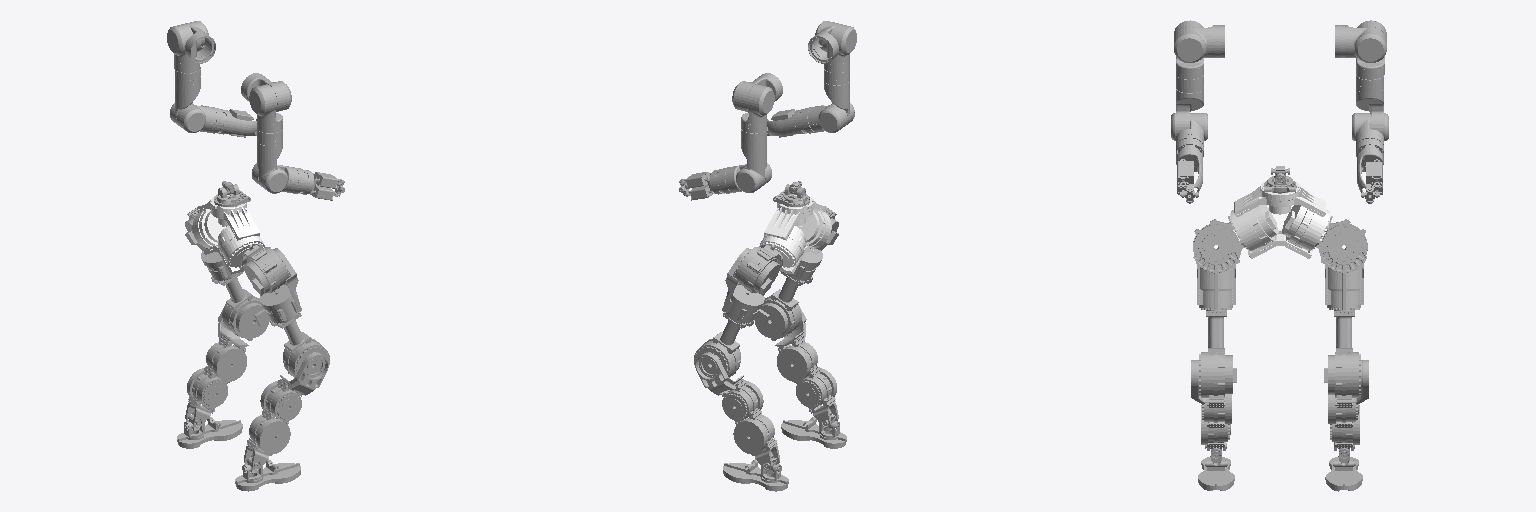
--- What the picture shows (computed from the rendered views, not written in the file) ---
The picture shows the robot from 3 angles, left to right: view 1: azimuth 30°, elevation 25°; view 2: azimuth 150°, elevation 25°; view 3: azimuth 270°, elevation 25°; orthographic projection.
Model dexbot with 30 links and 29 joints (12 revolute, 17 fixed), rooted at base_link, posed every joint at zero.
Links seen in each view (by area): view 1: leg_r4_link, leg_l4_link, base_link, leg_l3_link, leg_r1_link, leg_r3_link, arm_r3_link, leg_r2_link, leg_l6_link, leg_r6_link, arm_r2_link, arm_r5_link (+7 smaller); view 2: leg_l4_link, leg_r4_link, base_link, leg_r3_link, leg_l1_link, leg_l3_link, arm_l3_link, leg_l2_link, leg_r6_link, leg_l6_link, arm_l2_link, arm_l5_link (+7 smaller); view 3: base_link, leg_l2_link, leg_r2_link, leg_r3_link, leg_l3_link, leg_l4_link, leg_r4_link, arm_l1_link, arm_r1_link, arm_l5_link, arm_r5_link, arm_l3_link (+9 smaller).
Link boxes in pixels (box(x1,y1,x2,y2)): leg_r4_link: box(244, 353, 328, 470); leg_l4_link: box(185, 308, 248, 427); base_link: box(192, 195, 264, 274); leg_l3_link: box(211, 272, 270, 340); leg_r1_link: box(241, 243, 289, 295); leg_r3_link: box(269, 312, 329, 377); arm_r3_link: box(257, 129, 287, 193); leg_r2_link: box(259, 248, 301, 323); leg_l6_link: box(177, 417, 242, 448); leg_r6_link: box(235, 459, 300, 491); arm_r2_link: box(249, 84, 282, 132); arm_r5_link: box(292, 167, 344, 200); leg_l4_link: box(695, 353, 779, 470); leg_r4_link: box(775, 308, 838, 427); base_link: box(759, 195, 831, 274); leg_r3_link: box(753, 272, 812, 340); leg_l1_link: box(734, 243, 782, 295); leg_l3_link: box(694, 312, 754, 377); arm_l3_link: box(736, 129, 766, 192); leg_l2_link: box(722, 248, 764, 323); leg_r6_link: box(781, 417, 846, 448); leg_l6_link: box(723, 459, 788, 491); arm_l2_link: box(741, 84, 774, 132); arm_l5_link: box(679, 167, 732, 200); base_link: box(1230, 181, 1330, 258); leg_l2_link: box(1321, 233, 1366, 310); leg_r2_link: box(1193, 233, 1238, 310); leg_r3_link: box(1199, 310, 1236, 399); leg_l3_link: box(1324, 310, 1361, 399); leg_l4_link: box(1328, 360, 1368, 450); leg_r4_link: box(1191, 360, 1231, 450); arm_l1_link: box(1335, 25, 1386, 62); arm_r1_link: box(1174, 25, 1224, 62); arm_l5_link: box(1356, 138, 1383, 203); arm_r5_link: box(1176, 138, 1203, 203); arm_l3_link: box(1356, 74, 1388, 140).
Bounding box of the posed robot: 0.3222 × 0.5764 × 1.31 m (x, y, z).
Meshes: 30 distinct files referenced, 27 mesh visuals loaded (27 binary STL); not drawn: 3 (reference not matched to a file when rendering).

URDF robot description (dexbot):
<?xml version="1.0" encoding="utf-8"?>
<!-- This URDF was automatically created by SolidWorks to URDF Exporter! Originally created by Stephen Brawner ([email redacted]) 
     Commit Version: 1.6.0-4-g7f85cfe  Build Version: 1.6.7995.38578
     For more information, please see http://wiki.ros.org/sw_urdf_exporter -->
<robot
  name="dexbot">
  <mujoco>
    <compiler meshdir="../meshes/" balanceinertia="true" discardvisual="false"/>
  </mujoco>
  <link
    name="base_link">
    <inertial>
      <origin
        xyz="0.00026092 -2.8127E-06 -0.032217"
        rpy="0 0 0" />
      <mass
        value="6.36148470" />
      <inertia
        ixx="0.04306588"
        ixy="-0.00000008"
        ixz="-0.00001174"
        iyy="0.01886801"
        iyz="0.00000066"
        izz="0.03427573" />
    </inertial>
    <visual>
      <origin
        xyz="0 0 0"
        rpy="0 0 0" />
      <geometry>
        <mesh
          filename="../meshes/base_link.STL" />
      </geometry>
      <material
        name="">
        <color
          rgba="1 1 1 1" />
      </material>
    </visual>
    <collision>
      <origin
        xyz="0 0 0"
        rpy="0 0 0" />
      <geometry>
	    <box size="0.05 0.05 0.05"/>
      </geometry>
    </collision>
  </link>
 
  <link
    name="leg_l1_link">
    <inertial>
      <origin
        xyz="0.0017864690688535 0.116806232663126 -0.06730045557826"
        rpy="0 0 0" />
      <mass
        value="2.52127296" />
      <inertia
        ixx="0.00489363"
        ixy="0.00004173"
        ixz="-0.00002377"
        iyy="0.00398523"
        iyz="0.00008835"
        izz="0.00406691" />
    </inertial>
    <visual>
      <origin
        xyz="0 0 0"
        rpy="0 0 0" />
      <geometry>
        <mesh
          filename="../meshes/leg_l1_link.STL" />
      </geometry>
      <material
        name="">
        <color
          rgba="0.752941176470588 0.752941176470588 0.752941176470588 1" />
      </material>
    </visual>
    <collision>
      <origin
        xyz="0 0 0"
        rpy="0 0 0" />
      <geometry>
        <mesh
          filename="../meshes/leg_l1_link.STL" />
      </geometry>
    </collision>
  </link>
  <joint
    name="leg_l1_joint"
    type="revolute">
    <origin
      xyz="0 0.046765 -0.047489"
      rpy="0 -0.4 0" />
    <parent
      link="base_link" />
    <child
      link="leg_l1_link" />
    <axis
      xyz="0 0.86603 -0.5" />
    <limit
      lower="-2.878"
      upper="2.878"
      effort="360"
      velocity="10" />
  </joint>
  <link
    name="leg_l2_link">
    <inertial>
      <origin
        xyz="0.0181611526889743 7.56912721500136E-07 -0.100016047593423"
        rpy="0 0 0" />
      <mass
        value="1.73504778" />
      <inertia
        ixx="0.00395397"
        ixy="-0.00000001"
        ixz="-0.00093866"
        iyy="0.00413227"
        iyz="-0.00000002"
        izz="0.00269158" />
    </inertial>
    <visual>
      <origin
        xyz="0 0 0"
        rpy="0 0 0" />
      <geometry>
        <mesh
          filename="../meshes/leg_l2_link.STL" />
      </geometry>
      <material
        name="">
        <color
          rgba="0.752941176470588 0.752941176470588 0.752941176470588 1" />
      </material>
    </visual>
    <collision>
      <origin
        xyz="0 0 0"
        rpy="0 0 0" />
      <geometry>
        <mesh
          filename="../meshes/leg_l2_link.STL" />
      </geometry>
    </collision>
  </link>
  <joint
    name="leg_l2_joint"
    type="revolute">
    <origin
      xyz="0 0.12298 -0.071"
      rpy="0 0 0" />
    <parent
      link="leg_l1_link" />
    <child
      link="leg_l2_link" />
    <axis
      xyz="1 0 0" />
    <limit
      lower="-0.523"
      upper="3.663"
      effort="360"
      velocity="10" />
  </joint>
  <link
    name="leg_l3_link">
    <inertial>
      <origin
        xyz="0.000114524600190401 0.00164777125622231 -0.147066721883769"
        rpy="0 0 0" />
      <mass
        value="2.61656788" />
      <inertia
        ixx="0.00782239"
        ixy="0.00006403"
        ixz="0.00007604"
        iyy="0.00840438"
        iyz="0.00005952"
        izz="0.00374500" />
    </inertial>
    <visual>
      <origin
        xyz="0 0 0"
        rpy="0 0 0" />
      <geometry>
        <mesh
          filename="../meshes/leg_l3_link.STL" />
      </geometry>
      <material
        name="">
        <color
          rgba="0.752941176470588 0.752941176470588 0.752941176470588 1" />
      </material>
    </visual>
    <collision>
      <origin
        xyz="0 0 0"
        rpy="0 0 0" />
      <geometry>
        <mesh
          filename="../meshes/leg_l3_link.STL" />
      </geometry>
    </collision>
  </link>
  <joint
    name="leg_l3_joint"
    type="revolute">
    <origin
      xyz="0 0 -0.167"
      rpy="0 0 0" />
    <parent
      link="leg_l2_link" />
    <child
      link="leg_l3_link" />
    <axis
      xyz="0 0 1" />
    <limit
      lower="-2.791"
      upper="2.791"
      effort="120"
      velocity="10" />
  </joint>
  <link
    name="leg_l4_link">
    <inertial>
      <origin
        xyz="-2.42788361047336E-08 0.00822937854237335 -0.173854656992678"
        rpy="0 0 0" />
      <mass
        value="3.31554813 " />
      <inertia
        ixx="0.01958814"
        ixy="1.45675411582526E-10"
        ixz="3.648473073682E-10"
        iyy="0.01919917"
        iyz="-0.00126641"
        izz="0.00408025" />
    </inertial>
    <visual>
      <origin
        xyz="0 0 0"
        rpy="0 0 0" />
      <geometry>
        <mesh
          filename="../meshes/leg_l4_link.STL" />
      </geometry>
      <material
        name="">
        <color
          rgba="0.752941176470588 0.752941176470588 0.752941176470588 1" />
      </material>
    </visual>
    <collision>
      <origin
        xyz="0 0 0"
        rpy="0 0 0" />
      <geometry>
	    <box size="0.1 0.1 0.2"/>
      </geometry>
    </collision>
  </link>
  <joint
    name="leg_l4_joint"
    type="revolute">
    <origin
      xyz="0 0 -0.173"
      rpy="0 0.95 0" />
    <parent
      link="leg_l3_link" />
    <child
      link="leg_l4_link" />
    <axis
      xyz="0 1 0" />
    <limit
      lower="-2.355"
      upper="2.355"
      effort="360"
      velocity="10" />
  </joint>
  <link
    name="leg_l5_link">
    <inertial>
      <origin
        xyz="4.00159781425996E-05 -1.65302931448563E-05 -0.00782114986776949"
        rpy="0 0 0" />
      <mass
        value="0.07526525" />
      <inertia
        ixx="0.00001536"
        ixy="2.28805291083391E-22"
        ixz="0.00000014"
        iyy="0.00001554"
        iyz="-2.04482003272117E-20"
        izz="0.00001540" />
    </inertial>
    <visual>
      <origin
        xyz="0 0 0"
        rpy="0 0 0" />
      <geometry>
        <mesh
          filename="../meshes/leg_l5_link.STL" />
      </geometry>
      <material
        name="">
        <color
          rgba="0.752941176470588 0.752941176470588 0.752941176470588 1" />
      </material>
    </visual>
    <collision>
      <origin
        xyz="0 0 0"
        rpy="0 0 0" />
      <geometry>
        <mesh
          filename="../meshes/leg_l5_link.STL" />
      </geometry>
    </collision>
  </link>
  <joint
    name="leg_l5_joint"
    type="revolute">
    <origin
      xyz="0 0 -0.34"
      rpy="0 -0.6 0" />
    <parent
      link="leg_l4_link" />
    <child
      link="leg_l5_link" />
    <axis
      xyz="0 1 0" />
    <limit
      lower="-1.046"
      upper="0.436"
      effort="120"
      velocity="10" />
    <dynamics
      damping="0."
      friction="0.1" />
  </joint>
  <link
    name="leg_l6_link">
    <inertial>
      <origin
        xyz="0.0457872515086006 -6.33583149833861E-09 -0.0382686559903004"
        rpy="0 0 0" />
      <mass
        value="0.53640572" />
      <inertia
        ixx="0.00030450"
        ixy="-6.41793064473971E-11"
        ixz="0.00006785"
        iyy="0.00162803"
        iyz="-5.36686897038477E-11"
        izz="0.00177516" />
    </inertial>
    <visual>
      <origin
        xyz="0 0 0"
        rpy="0 0 0" />
      <geometry>
        <mesh
          filename="../meshes/leg_l6_link.STL" />
      </geometry>
      <material
        name="">
        <color
          rgba="0.752941176470588 0.752941176470588 0.752941176470588 1" />
      </material>
    </visual>
    <collision>
      <origin
        xyz="0 0 0"
        rpy="0 0 0" />
      <geometry>
        <mesh
          filename="../meshes/leg_l6_link.STL" />
      </geometry>
    </collision>
  </link>
  <joint
    name="leg_l6_joint"
    type="revolute">
    <origin
      xyz="0 0 -0.015"
      rpy="0 0 0" />
    <parent
      link="leg_l5_link" />
    <child
      link="leg_l6_link" />
    <axis
      xyz="1 0 0" />
    <limit
      lower="-0.261"
      upper="0.261"
      effort="120"
      velocity="10" />
    <dynamics
      damping="0."
      friction="0.1" />
  </joint>
  <link
    name="leg_r1_link">
    <inertial>
      <origin
        xyz="0.00178614318038721 -0.11680589348535 -0.0673010430487607"
        rpy="0 0 0" />
      <mass
        value="2.52127296" />
      <inertia
        ixx="0.00489363"
        ixy="-0.00004169"
        ixz="-0.00002379"
        iyy="0.00398515"
        iyz="-0.00008830"
        izz="0.00406699" />
    </inertial>
    <visual>
      <origin
        xyz="0 0 0"
        rpy="0 0 0" />
      <geometry>
        <mesh
          filename="../meshes/leg_r1_link.STL" />
      </geometry>
      <material
        name="">
        <color
          rgba="0.752941176470588 0.752941176470588 0.752941176470588 1" />
      </material>
    </visual>
    <collision>
      <origin
        xyz="0 0 0"
        rpy="0 0 0" />
      <geometry>
        <mesh
          filename="../meshes/leg_r1_link.STL" />
      </geometry>
    </collision>
  </link>
  <joint
    name="leg_r1_joint"
    type="revolute">
    <origin
      xyz="0 -0.046765 -0.047489"
      rpy="0 -0.4 0" />
    <parent
      link="base_link" />
    <child
      link="leg_r1_link" />
    <axis
      xyz="0 0.86603 0.5" />
    <limit
      lower="-2.878"
      upper="2.878"
      effort="360"
      velocity="10" />
  </joint>
  <link
    name="leg_r2_link">
    <inertial>
      <origin
        xyz="0.0181611526889737 7.56912739346971E-07 -0.100016047593425"
        rpy="0 0 0" />
      <mass
        value="1.73504778 " />
      <inertia
        ixx="0.00395397"
        ixy="-0.00000001"
        ixz="-0.00093866"
        iyy="0.00413227"
        iyz="-0.00000002"
        izz="0.00269158" />
    </inertial>
    <visual>
      <origin
        xyz="0 0 0"
        rpy="0 0 0" />
      <geometry>
        <mesh
          filename="../meshes/leg_r2_link.STL" />
      </geometry>
      <material
        name="">
        <color
          rgba="0.752941176470588 0.752941176470588 0.752941176470588 1" />
      </material>
    </visual>
    <collision>
      <origin
        xyz="0 0 0"
        rpy="0 0 0" />
      <geometry>
        <mesh
          filename="../meshes/leg_r2_link.STL" />
      </geometry>
    </collision>
  </link>
  <joint
    name="leg_r2_joint"
    type="revolute">
    <origin
      xyz="0 -0.12298 -0.071"
      rpy="0 0 0" />
    <parent
      link="leg_r1_link" />
    <child
      link="leg_r2_link" />
    <axis
      xyz="1 0 0" />
    <limit
      lower="-3.663"
      upper="0.523"
      effort="360"
      velocity="10" />
  </joint>
  <link
    name="leg_r3_link">
    <inertial>
      <origin
        xyz="0.000114524600189936 -0.00164777130191504 -0.152066096139861"
        rpy="0 0 0" />
      <mass
        value="2.61656788" />
      <inertia
        ixx="0.00782235"
        ixy="-0.00006403"
        ixz="0.00007614"
        iyy="0.00840433"
        iyz="-0.00005955"
        izz="0.00374500" />
    </inertial>
    <visual>
      <origin
        xyz="0 0 0"
        rpy="0 0 0" />
      <geometry>
        <mesh
          filename="../meshes/leg_r3_link.STL" />
      </geometry>
      <material
        name="">
        <color
          rgba="0.752941176470588 0.752941176470588 0.752941176470588 1" />
      </material>
    </visual>
    <collision>
      <origin
        xyz="0 0 0"
        rpy="0 0 0" />
      <geometry>
        <mesh
          filename="../meshes/leg_r3_link.STL" />
      </geometry>
    </collision>
  </link>
  <joint
    name="leg_r3_joint"
    type="revolute">
    <origin
      xyz="0 0 -0.162"
      rpy="0 0 0" />
    <parent
      link="leg_r2_link" />
    <child
      link="leg_r3_link" />
    <axis
      xyz="0 0 1" />
    <limit
      lower="-2.791"
      upper="2.791"
      effort="120"
      velocity="10" />
  </joint>
  <link
    name="leg_r4_link">
    <inertial>
      <origin
        xyz="2.42790771935745E-08 -0.00822937854297046 -0.173854656994349"
        rpy="0 0 0" />
      <mass
        value="3.31554813" />
      <inertia
        ixx="0.01958814"
        ixy="1.4568009343734E-10"
        ixz="-3.64833965217596E-10"
        iyy="0.01919917"
        iyz="0.00126641"
        izz="0.00408025" />
    </inertial>
    <visual>
      <origin
        xyz="0 0 0"
        rpy="0 0 0" />
      <geometry>
        <mesh
          filename="../meshes/leg_r4_link.STL" />
      </geometry>
      <material
        name="">
        <color
          rgba="0.752941176470588 0.752941176470588 0.752941176470588 1" />
      </material>
    </visual>
    <collision>
      <origin
        xyz="0 0 0"
        rpy="0 0 0" />
      <geometry>
	    <box size="0.1 0.1 0.2"/>
      </geometry>
    </collision>
  </link>
  <joint
    name="leg_r4_joint"
    type="revolute">
    <origin
      xyz="0 0 -0.178"
      rpy="0 0.95 0" />
    <parent
      link="leg_r3_link" />
    <child
      link="leg_r4_link" />
    <axis
      xyz="0 1 0" />
    <limit
      lower="-2.355"
      upper="2.355"
      effort="360"
      velocity="10" />
  </joint>
  <link
    name="leg_r5_link">
    <inertial>
      <origin
        xyz="4.00159781427515E-05 1.65302931921796E-05 -0.00782114986777116"
        rpy="0 0 0" />
      <mass
        value="0.07526525 " />
      <inertia
        ixx="0.00001536"
        ixy="-6.76802670148237E-22"
        ixz="0.00000014"
        iyy="0.00001554"
        iyz="-6.28566146662745E-21"
        izz="0.00001540" />
    </inertial>
    <visual>
      <origin
        xyz="0 0 0"
        rpy="0 0 0" />
      <geometry>
        <mesh
          filename="../meshes/leg_r5_link.STL" />
      </geometry>
      <material
        name="">
        <color
          rgba="0.752941176470588 0.752941176470588 0.752941176470588 1" />
      </material>
    </visual>
    <collision>
      <origin
        xyz="0 0 0"
        rpy="0 0 0" />
      <geometry>
        <mesh
          filename="../meshes/leg_r5_link.STL" />
      </geometry>
    </collision>
  </link>
  <joint
    name="leg_r5_joint"
    type="revolute">
    <origin
      xyz="0 0 -0.34"
      rpy="0 -0.6 0" />
    <parent
      link="leg_r4_link" />
    <child
      link="leg_r5_link" />
    <axis
      xyz="0 1 0" />
    <limit
      lower="-1.046"
      upper="0.436"
      effort="120"
      velocity="10" />
    <dynamics
      damping="0."
      friction="0.1" />
  </joint>
  <link
    name="leg_r6_link">
    <inertial>
      <origin
        xyz="0.0457872515086024 -6.33582283859901E-09 -0.0382686559903024"
        rpy="0 0 0" />
      <mass
        value="0.53640572" />
      <inertia
        ixx="0.00030450"
        ixy="-6.41793116816966E-11"
        ixz="0.00006785"
        iyy="0.00162803"
        iyz="-5.36686913549503E-11"
        izz="0.00177516" />
    </inertial>
    <visual>
      <origin
        xyz="0 0 0"
        rpy="0 0 0" />
      <geometry>
        <mesh
          filename="../meshes/leg_r6_link.STL" />
      </geometry>
      <material
        name="">
        <color
          rgba="0.752941176470588 0.752941176470588 0.752941176470588 1" />
      </material>
    </visual>
    <collision>
      <origin
        xyz="0 0 0"
        rpy="0 0 0" />
      <geometry>
        <mesh
          filename="../meshes/leg_r6_link.STL" />
      </geometry>
    </collision>
  </link>
  <joint
    name="leg_r6_joint"
    type="revolute">
    <origin
      xyz="0 0 -0.015"
      rpy="0 0 0" />
    <parent
      link="leg_r5_link" />
    <child
      link="leg_r6_link" />
    <axis
      xyz="1 0 0" />
    <limit
      lower="-0.261"
      upper="0.261"
      effort="120"
      velocity="10" />
    <dynamics
      damping="0."
      friction="0.1" />
  </joint>
  <link
    name="waist_yaw_link">
    <inertial>
      <origin
        xyz="0.00787627921192027 -2.35767009722762E-05 -0.0105472849579242"
        rpy="0 0 0" />
      <mass
        value="0.24957042" />
      <inertia
        ixx="0.00019007"
        ixy="0.00000020"
        ixz="-0.00000368"
        iyy="0.00021255"
        iyz="0.00000002"
        izz="0.00030541" />
    </inertial>
    <visual>
      <origin
        xyz="0 0 0"
        rpy="0 0 0" />
      <geometry>
        <mesh
          filename="../meshes/waist_yaw_link.STL" />
      </geometry>
      <material
        name="">
        <color
          rgba="0.752941176470588 0.752941176470588 0.752941176470588 1" />
      </material>
    </visual>
    <collision>
      <origin
        xyz="0 0 0"
        rpy="0 0 0" />
      <geometry>
        <mesh
          filename="../meshes/waist_yaw_link.STL" />
      </geometry>
    </collision>
  </link>
  <joint
    name="waist_yaw_joint"
    type="fixed">
    <origin
      xyz="0 0 0.068702"
      rpy="0 0 0" />
    <parent
      link="base_link" />
    <child
      link="waist_yaw_link" />
    <axis
      xyz="0 0 1" />
    <limit
      lower="-1"
      upper="1"
      effort="120"
      velocity="10" />
  </joint>
  <link
    name="waist_roll_link">
    <inertial>
      <origin
        xyz="-0.000388928550485794 0.000350132910345151 0.00738202287463685"
        rpy="0 0 0" />
      <mass
        value="0.16196054" />
      <inertia
        ixx="0.00002646"
        ixy="-0.00000002"
        ixz="-0.00000046"
        iyy="0.00003035"
        iyz="-0.00000038"
        izz="0.00003003" />
    </inertial>
    <visual>
      <origin
        xyz="0 0 0"
        rpy="0 0 0" />
      <geometry>
        <mesh
          filename="../meshes/waist_roll_link.STL" />
      </geometry>
      <material
        name="">
        <color
          rgba="0.752941176470588 0.752941176470588 0.752941176470588 1" />
      </material>
    </visual>
    <collision>
      <origin
        xyz="0 0 0"
        rpy="0 0 0" />
      <geometry>
        <mesh
          filename="../meshes/waist_roll_link.STL" />
      </geometry>
    </collision>
  </link>
  <joint
    name="waist_roll_joint"
    type="fixed">
    <origin
      xyz="0 0 0.013"
      rpy="0 0 0" />
    <parent
      link="waist_yaw_link" />
    <child
      link="waist_roll_link" />
    <axis
      xyz="1 0 0" />
    <limit
      lower="-1"
      upper="1"
      effort="120"
      velocity="10" />
  </joint>
  <link
    name="waist_pitch_link">
    <inertial>
      <origin
        xyz="-0.00970826894856499 -0.000666017269940171 0.246498190853554"
        rpy="0 0 0" />
      <mass
        value="16.58516457 " />
      <inertia
        ixx="0.39246282"
        ixy="-0.00207990"
        ixz="-0.00581603"
        iyy="0.34173665"
        iyz="-0.00122791"
        izz="0.12457224" />
    </inertial>
    <visual>
      <origin
        xyz="0 0 0"
        rpy="0 0 0" />
      <geometry>
        <mesh
          filename="../meshes/waist_pitch_link.STL" />
      </geometry>
      <material
        name="">
        <color
          rgba="0.752941176470588 0.752941176470588 0.752941176470588 1" />
      </material>
    </visual>
    <collision>
      <origin
        xyz="0 0 0"
        rpy="0 0 0" />
      <geometry>
        <mesh
          filename="../meshes/waist_pitch_link.STL" />
      </geometry>
    </collision>
  </link>
  <joint
    name="waist_pitch_joint"
    type="fixed">
    <origin
      xyz="0 0 0.014"
      rpy="0 0 0" />
    <parent
      link="waist_roll_link" />
    <child
      link="waist_pitch_link" />
    <axis
      xyz="0 1 0" />
    <limit
      lower="-1"
      upper="1"
      effort="120"
      velocity="10" />
  </joint>
  <link
    name="arm_l1_link">
    <inertial>
      <origin
        xyz="0.0121006127120013 0.0572041155775264 -4.1012711069488E-06"
        rpy="0 0 0" />
      <mass
        value="0.20393504" />
      <inertia
        ixx="0.00045830"
        ixy="-0.00008360"
        ixz="-0.00000002"
        iyy="0.00028678"
        iyz="-0.00000003"
        izz="0.00041174" />
    </inertial>
    <visual>
      <origin
        xyz="0 0 0"
        rpy="0 0 0" />
      <geometry>
        <mesh
          filename="../meshes/arm_l1_link.STL" />
      </geometry>
      <material
        name="">
        <color
          rgba="0.752941176470588 0.752941176470588 0.752941176470588 1" />
      </material>
    </visual>
    <collision>
      <origin
        xyz="0 0 0"
        rpy="0 0 0" />
      <geometry>
        <mesh
          filename="../meshes/arm_l1_link.STL" />
      </geometry>
    </collision>
  </link>
  <joint
    name="arm_l1_joint"
    type="fixed">
    <origin
      xyz="0 0.144 0.38"
      rpy="0 0 0" />
    <parent
      link="waist_pitch_link" />
    <child
      link="arm_l1_link" />
    <axis
      xyz="0 1 0" />
    <limit
      lower="-1"
      upper="1"
      effort="120"
      velocity="10" />
  </joint>
  <link
    name="arm_l2_link">
    <inertial>
      <origin
        xyz="-0.00161764285940526 -3.97015482295204E-07 -0.00579799005909298"
        rpy="0 0 0" />
      <mass
        value="1.00374304" />
      <inertia
        ixx="0.00116457"
        ixy="-6.74756971402415E-08"
        ixz="0.00001309"
        iyy="0.00126789"
        iyz="-0.00000004"
        izz="0.00092462" />
    </inertial>
    <visual>
      <origin
        xyz="0 0 0"
        rpy="0 0 0" />
      <geometry>
        <mesh
          filename="../meshes/arm_l2_link.STL" />
      </geometry>
      <material
        name="">
        <color
          rgba="0.752941176470588 0.752941176470588 0.752941176470588 1" />
      </material>
    </visual>
    <collision>
      <origin
        xyz="0 0 0"
        rpy="0 0 0" />
      <geometry>
        <mesh
          filename="../meshes/arm_l2_link.STL" />
      </geometry>
    </collision>
  </link>
  <joint
    name="arm_l2_joint"
    type="fixed">
    <origin
      xyz="-0.001 0.096 0"
      rpy="0 0 0" />
    <parent
      link="arm_l1_link" />
    <child
      link="arm_l2_link" />
    <axis
      xyz="1 0 0" />
    <limit
      lower="-1"
      upper="1"
      effort="120"
      velocity="10" />
  </joint>
  <link
    name="arm_l3_link">
    <inertial>
      <origin
        xyz="9.00903682174029E-05 0.00118340656204821 -0.0833842312044012"
        rpy="0 0 0" />
      <mass
        value="1.48114068" />
      <inertia
        ixx="0.00792989"
        ixy="-0.00000373"
        ixz="0.00003198"
        iyy="0.00779496"
        iyz="0.00014312"
        izz="0.00106001" />
    </inertial>
    <visual>
      <origin
        xyz="0 0 0"
        rpy="0 0 0" />
      <geometry>
        <mesh
          filename="../meshes/arm_l3_link.STL" />
      </geometry>
      <material
        name="">
        <color
          rgba="0.752941176470588 0.752941176470588 0.752941176470588 1" />
      </material>
    </visual>
    <collision>
      <origin
        xyz="0 0 0"
        rpy="0 0 0" />
      <geometry>
        <mesh
          filename="../meshes/arm_l3_link.STL" />
      </geometry>
    </collision>
  </link>
  <joint
    name="arm_l3_joint"
    type="fixed">
    <origin
      xyz="0.001 0 -0.096003"
      rpy="0 0 0" />
    <parent
      link="arm_l2_link" />
    <child
      link="arm_l3_link" />
    <axis
      xyz="0 0 1" />
    <limit
      lower="-1"
      upper="1"
      effort="120"
      velocity="10" />
  </joint>
  <link
    name="arm_l4_link">
    <inertial>
      <origin
        xyz="1.49804098653616E-07 -0.0117030083597582 -0.0301791602436848"
        rpy="0 0 0" />
      <mass
        value="0.15069185" />
      <inertia
        ixx="0.00021956"
        ixy="-4.35065508759493E-10"
        ixz="8.14225140142345E-10"
        iyy="0.00024171"
        iyz="0.00004659"
        izz="0.00016652" />
    </inertial>
    <visual>
      <origin
        xyz="0 0 0"
        rpy="0 0 0" />
      <geometry>
        <mesh
          filename="../meshes/arm_l4_link.STL" />
      </geometry>
      <material
        name="">
        <color
          rgba="0.752941176470588 0.752941176470588 0.752941176470588 1" />
      </material>
    </visual>
    <collision>
      <origin
        xyz="0 0 0"
        rpy="0 0 0" />
      <geometry>
        <mesh
          filename="../meshes/arm_l4_link.STL" />
      </geometry>
    </collision>
  </link>
  <joint
    name="arm_l4a_joint"
    type="fixed">
    <origin
      xyz="0.0012982 -0.00057271 -0.154"
      rpy="0 -1.2 0" />
    <parent
      link="arm_l3_link" />
    <child
      link="arm_l4_link" />
    <axis
      xyz="0 1 0" />
    <limit
      lower="-1"
      upper="1"
      effort="120"
      velocity="10" />
  </joint>
  <link
    name="arm_l5_link">
    <inertial>
      <origin
        xyz="-2.29959343993162E-08 0.000734391169738891 -0.0354032821121625"
        rpy="0 0 0" />
      <mass
        value="0.93167260" />
      <inertia
        ixx="0.00229040"
        ixy="1.52390942101639E-09"
        ixz="2.15023246986411E-11"
        iyy="0.00228533"
        iyz="0.00004692"
        izz="0.00058394" />
    </inertial>
    <visual>
      <origin
        xyz="0 0 0"
        rpy="0 0 0" />
      <geometry>
        <mesh
          filename="../meshes/arm_l5_link.STL" />
      </geometry>
      <material
        name="">
        <color
          rgba="0.752941176470588 0.752941176470588 0.752941176470588 1" />
      </material>
    </visual>
    <collision>
      <origin
        xyz="0 0 0"
        rpy="0 0 0" />
      <geometry>
        <mesh
          filename="../meshes/arm_l5_link.STL" />
      </geometry>
    </collision>
  </link>
  <joint
    name="arm_l5a_joint"
    type="fixed">
    <origin
      xyz="0 -0.0010034 -0.078003"
      rpy="0 0 0" />
    <parent
      link="arm_l4_link" />
    <child
      link="arm_l5_link" />
    <axis
      xyz="0 0 1" />
    <limit
      lower="-1"
      upper="1"
      effort="120"
      velocity="10" />
  </joint>
  <link
    name="arm_l6_link">
    <inertial>
      <origin
        xyz="7.00162865575459E-05 -6.51130576661829E-05 -1.23502315145518E-11"
        rpy="0 0 0" />
      <mass
        value="0.05019123" />
      <inertia
        ixx="0.00000729"
        ixy="2.55780907874052E-11"
        ixz="4.94641661915567E-18"
        iyy="0.00000887"
        iyz="1.03998630487718E-13"
        izz="0.00001475" />
    </inertial>
    <visual>
      <origin
        xyz="0 0 0"
        rpy="0 0 0" />
      <geometry>
        <mesh
          filename="../meshes/arm_l6_link.STL" />
      </geometry>
      <material
        name="">
        <color
          rgba="0.752941176470588 0.752941176470588 0.752941176470588 1" />
      </material>
    </visual>
    <collision>
      <origin
        xyz="0 0 0"
        rpy="0 0 0" />
      <geometry>
        <mesh
          filename="../meshes/arm_l6_link.STL" />
      </geometry>
    </collision>
  </link>
  <joint
    name="arm_l6a_joint"
    type="fixed">
    <origin
      xyz="0 0 -0.172"
      rpy="0 0 0" />
    <parent
      link="arm_l5_link" />
    <child
      link="arm_l6_link" />
    <axis
      xyz="0 1 0" />
    <limit
      lower="-1"
      upper="1"
      effort="120"
      velocity="10" />
  </joint>
  <link
    name="arm_l7_link">
    <inertial>
      <origin
        xyz="0.00334756121687912 -0.00476719714664378 -0.0608151433410942"
        rpy="0 0 0" />
      <mass
        value="0.69558462" />
      <inertia
        ixx="0.00242159"
        ixy="0.00021734"
        ixz="0.00000364"
        iyy="0.00237365"
        iyz="-0.00009025"
        izz="0.00091109" />
    </inertial>
    <visual>
      <origin
        xyz="0 0 0"
        rpy="0 0 0" />
      <geometry>
        <mesh
          filename="../meshes/arm_l7_link.STL" />
      </geometry>
      <material
        name="">
        <color
          rgba="0.752941176470588 0.752941176470588 0.752941176470588 1" />
      </material>
    </visual>
    <collision>
      <origin
        xyz="0 0 0"
        rpy="0 0 0" />
      <geometry>
        <mesh
          filename="../meshes/arm_l7_link.STL" />
      </geometry>
    </collision>
  </link>
  <joint
    name="arm_l7_joint"
    type="fixed">
    <origin
      xyz="0 0 0"
      rpy="0 0 0" />
    <parent
      link="arm_l6_link" />
    <child
      link="arm_l7_link" />
    <axis
      xyz="1 0 0" />
    <limit
      lower="-1"
      upper="1"
      effort="120"
      velocity="10" />
  </joint>
  <link
    name="arm_r1_link">
    <inertial>
      <origin
        xyz="0.0121006127119993 -0.057204115577526 4.10127110739289E-06"
        rpy="0 0 0" />
      <mass
        value="0.20393504" />
      <inertia
        ixx="0.00045830"
        ixy="0.00008360"
        ixz="0.00000002"
        iyy="0.00028678"
        iyz="-0.00000003"
        izz="0.00041174" />
    </inertial>
    <visual>
      <origin
        xyz="0 0 0"
        rpy="0 0 0" />
      <geometry>
        <mesh
          filename="../meshes/arm_r1_link.STL" />
      </geometry>
      <material
        name="">
        <color
          rgba="0.752941176470588 0.752941176470588 0.752941176470588 1" />
      </material>
    </visual>
    <collision>
      <origin
        xyz="0 0 0"
        rpy="0 0 0" />
      <geometry>
        <mesh
          filename="../meshes/arm_r1_link.STL" />
      </geometry>
    </collision>
  </link>
  <joint
    name="arm_r1_joint"
    type="fixed">
    <origin
      xyz="0 -0.144 0.38"
      rpy="0 0 0" />
    <parent
      link="waist_pitch_link" />
    <child
      link="arm_r1_link" />
    <axis
      xyz="0 1 0" />
    <limit
      lower="-1"
      upper="1"
      effort="120"
      velocity="10" />
  </joint>
  <link
    name="arm_r2_link">
    <inertial>
      <origin
        xyz="-0.00161764285940585 -3.97015482239693E-07 -0.00579799005909115"
        rpy="0 0 0" />
      <mass
        value="1.00374304 " />
      <inertia
        ixx="0.00116457"
        ixy="-6.74756971405435E-08"
        ixz="0.00001309"
        iyy="0.00126789"
        iyz="-0.00000004"
        izz="0.00092462" />
    </inertial>
    <visual>
      <origin
        xyz="0 0 0"
        rpy="0 0 0" />
      <geometry>
        <mesh
          filename="../meshes/arm_r2_link.STL" />
      </geometry>
      <material
        name="">
        <color
          rgba="0.752941176470588 0.752941176470588 0.752941176470588 1" />
      </material>
    </visual>
    <collision>
      <origin
        xyz="0 0 0"
        rpy="0 0 0" />
      <geometry>
        <mesh
          filename="../meshes/arm_r2_link.STL" />
      </geometry>
    </collision>
  </link>
  <joint
    name="arm_r2_joint"
    type="fixed">
    <origin
      xyz="-0.001 -0.096 0"
      rpy="0 0 0" />
    <parent
      link="arm_r1_link" />
    <child
      link="arm_r2_link" />
    <axis
      xyz="1 0 0" />
    <limit
      lower="-1"
      upper="1"
      effort="120"
      velocity="10" />
  </joint>
  <link
    name="arm_r3_link">
    <inertial>
      <origin
        xyz="-0.000671783132810063 -0.00211765209034712 -0.083500800793755"
        rpy="0 0 0" />
      <mass
        value="1.48145355" />
      <inertia
        ixx="0.00794073"
        ixy="0.00000208"
        ixz="-0.00002549"
        iyy="0.00780300"
        iyz="-0.00021459"
        izz="0.00106151" />
    </inertial>
    <visual>
      <origin
        xyz="0 0 0"
        rpy="0 0 0" />
      <geometry>
        <mesh
          filename="../meshes/arm_r3_link.STL" />
      </geometry>
      <material
        name="">
        <color
          rgba="0.752941176470588 0.752941176470588 0.752941176470588 1" />
      </material>
    </visual>
    <collision>
      <origin
        xyz="0 0 0"
        rpy="0 0 0" />
      <geometry>
        <mesh
          filename="../meshes/arm_r3_link.STL" />
      </geometry>
    </collision>
  </link>
  <joint
    name="arm_r3_joint"
    type="fixed">
    <origin
      xyz="0.001 0 -0.096003"
      rpy="0 0 0" />
    <parent
      link="arm_r2_link" />
    <child
      link="arm_r3_link" />
    <axis
      xyz="0 0 1" />
    <limit
      lower="-1"
      upper="1"
      effort="120"
      velocity="10" />
  </joint>
  <link
    name="arm_r4_link">
    <inertial>
      <origin
        xyz="-1.49804148750482E-07 0.00969955585975837 -0.0301791602436828"
        rpy="0 0 0" />
      <mass
        value="0.15069185" />
      <inertia
        ixx="0.00021956"
        ixy="-4.3506550876695E-10"
        ixz="-8.14225149772878E-10"
        iyy="0.00024171"
        iyz="-0.00004659"
        izz="0.00016652" />
    </inertial>
    <visual>
      <origin
        xyz="0 0 0"
        rpy="0 0 0" />
      <geometry>
        <mesh
          filename="../meshes/arm_r4_link.STL" />
      </geometry>
      <material
        name="">
        <color
          rgba="0.752941176470588 0.752941176470588 0.752941176470588 1" />
      </material>
    </visual>
    <collision>
      <origin
        xyz="0 0 0"
        rpy="0 0 0" />
      <geometry>
        <mesh
          filename="../meshes/arm_r4_link.STL" />
      </geometry>
    </collision>
  </link>
  <joint
    name="arm_r4a_joint"
    type="fixed">
    <origin
      xyz="0 0.0010035 -0.154"
      rpy="0 -1.2 0" />
    <parent
      link="arm_r3_link" />
    <child
      link="arm_r4_link" />
    <axis
      xyz="0 1 0" />
    <limit
      lower="-1"
      upper="1"
      effort="120"
      velocity="10" />
  </joint>
  <link
    name="arm_r5_link">
    <inertial>
      <origin
        xyz="2.29839983262953E-08 -0.000734384448753372 -0.0354032823706018"
        rpy="0 0 0" />
      <mass
        value="0.93167260 " />
      <inertia
        ixx="0.00229040"
        ixy="1.5237215482151E-09"
        ixz="-2.0558612775884E-11"
        iyy="0.00358688"
        iyz="-0.00004692"
        izz="0.00058394" />
    </inertial>
    <visual>
      <origin
        xyz="0 0 0"
        rpy="0 0 0" />
      <geometry>
        <mesh
          filename="../meshes/arm_r5_link.STL" />
      </geometry>
      <material
        name="">
        <color
          rgba="0.752941176470588 0.752941176470588 0.752941176470588 1" />
      </material>
    </visual>
    <collision>
      <origin
        xyz="0 0 0"
        rpy="0 0 0" />
      <geometry>
        <mesh
          filename="../meshes/arm_r5_link.STL" />
      </geometry>
    </collision>
  </link>
  <joint
    name="arm_r5a_joint"
    type="fixed">
    <origin
      xyz="0 -0.001 -0.078"
      rpy="0 0 0" />
    <parent
      link="arm_r4_link" />
    <child
      link="arm_r5_link" />
    <axis
      xyz="0 0 1" />
    <limit
      lower="-1"
      upper="1"
      effort="120"
      velocity="10" />
  </joint>
  <link
    name="arm_r6_link">
    <inertial>
      <origin
        xyz="-7.00162865573658E-05 6.51130576662107E-05 -2.24213009270002E-16"
        rpy="0 0 0" />
      <mass
        value="0.05019123" />
      <inertia
        ixx="0.00000729"
        ixy="2.55780907869747E-11"
        ixz="-1.44171828316231E-22"
        iyy="0.00000887"
        iyz="4.28611718593901E-22"
        izz="0.00001475" />
    </inertial>
    <visual>
      <origin
        xyz="0 0 0"
        rpy="0 0 0" />
      <geometry>
        <mesh
          filename="../meshes/arm_r6_link.STL" />
      </geometry>
      <material
        name="">
        <color
          rgba="0.752941176470588 0.752941176470588 0.752941176470588 1" />
      </material>
    </visual>
    <collision>
      <origin
        xyz="0 0 0"
        rpy="0 0 0" />
      <geometry>
        <mesh
          filename="../meshes/arm_r6_link.STL" />
      </geometry>
    </collision>
  </link>
  <joint
    name="arm_r6a_joint"
    type="fixed">
    <origin
      xyz="0 0 -0.172"
      rpy="0 0 0" />
    <parent
      link="arm_r5_link" />
    <child
      link="arm_r6_link" />
    <axis
      xyz="0 1 0" />
    <limit
      lower="-1"
      upper="1"
      effort="120"
      velocity="10" />
  </joint>
  <link
    name="arm_r7_link">
    <inertial>
      <origin
        xyz="0.00392280627605782 0.00445165416771251 -0.0608201661717542"
        rpy="0 0 0" />
      <mass
        value="0.69558462" />
      <inertia
        ixx="0.00238316"
        ixy="-0.00021760"
        ixz="0.00000923"
        iyy="0.00241114"
        iyz="0.00008965"
        izz="0.00091078" />
    </inertial>
    <visual>
      <origin
        xyz="0 0 0"
        rpy="0 0 0" />
      <geometry>
        <mesh
          filename="../meshes/arm_r7_link.STL" />
      </geometry>
      <material
        name="">
        <color
          rgba="0.752941176470588 0.752941176470588 0.752941176470588 1" />
      </material>
    </visual>
    <collision>
      <origin
        xyz="0 0 0"
        rpy="0 0 0" />
      <geometry>
        <mesh
          filename="../meshes/arm_r7_link.STL" />
      </geometry>
    </collision>
  </link>
  <joint
    name="arm_r7_joint"
    type="fixed">
    <origin
      xyz="0 0 0"
      rpy="0 0 0" />
    <parent
      link="arm_r6_link" />
    <child
      link="arm_r7_link" />
    <axis
      xyz="1 0 0" />
    <limit
      lower="-1"
      upper="1"
      effort="120"
      velocity="10" />
  </joint>
</robot>
